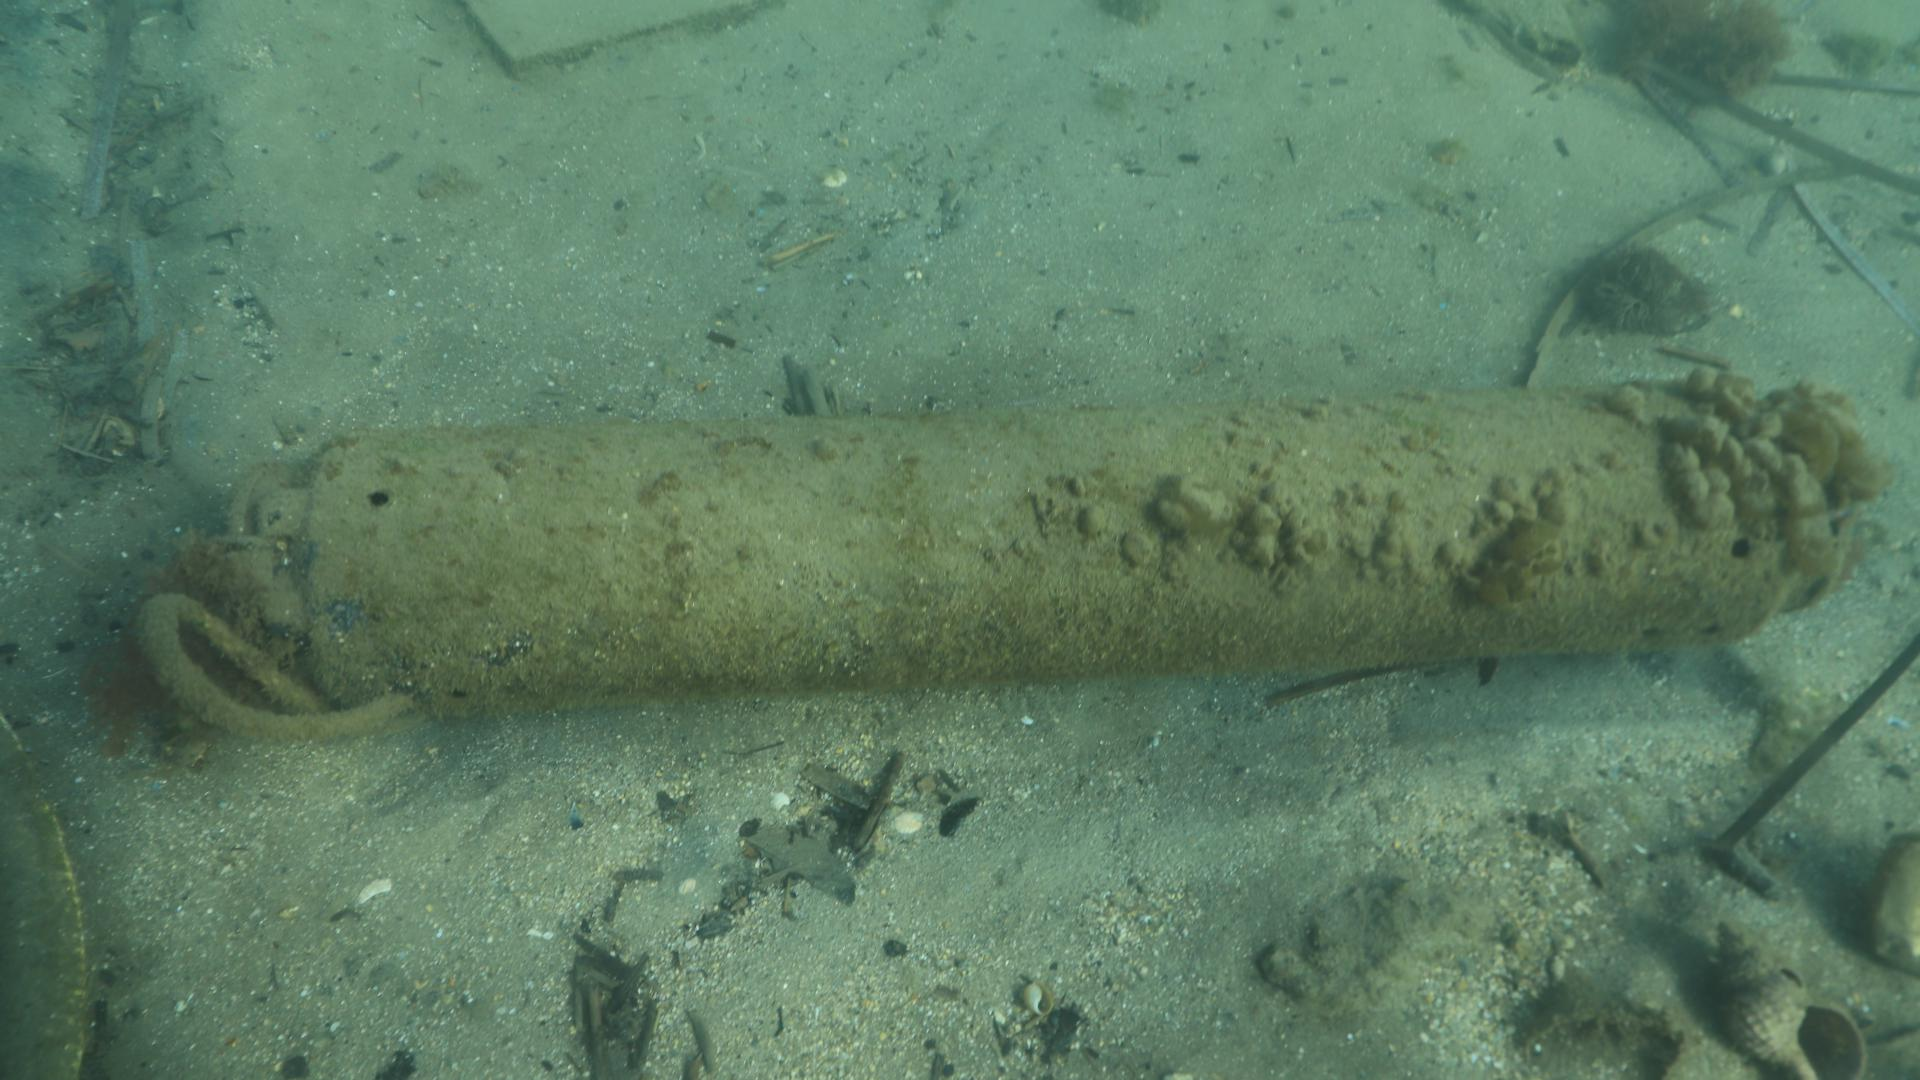eel fish trap: (137, 375, 1865, 742)
rope: (135, 582, 413, 736)
